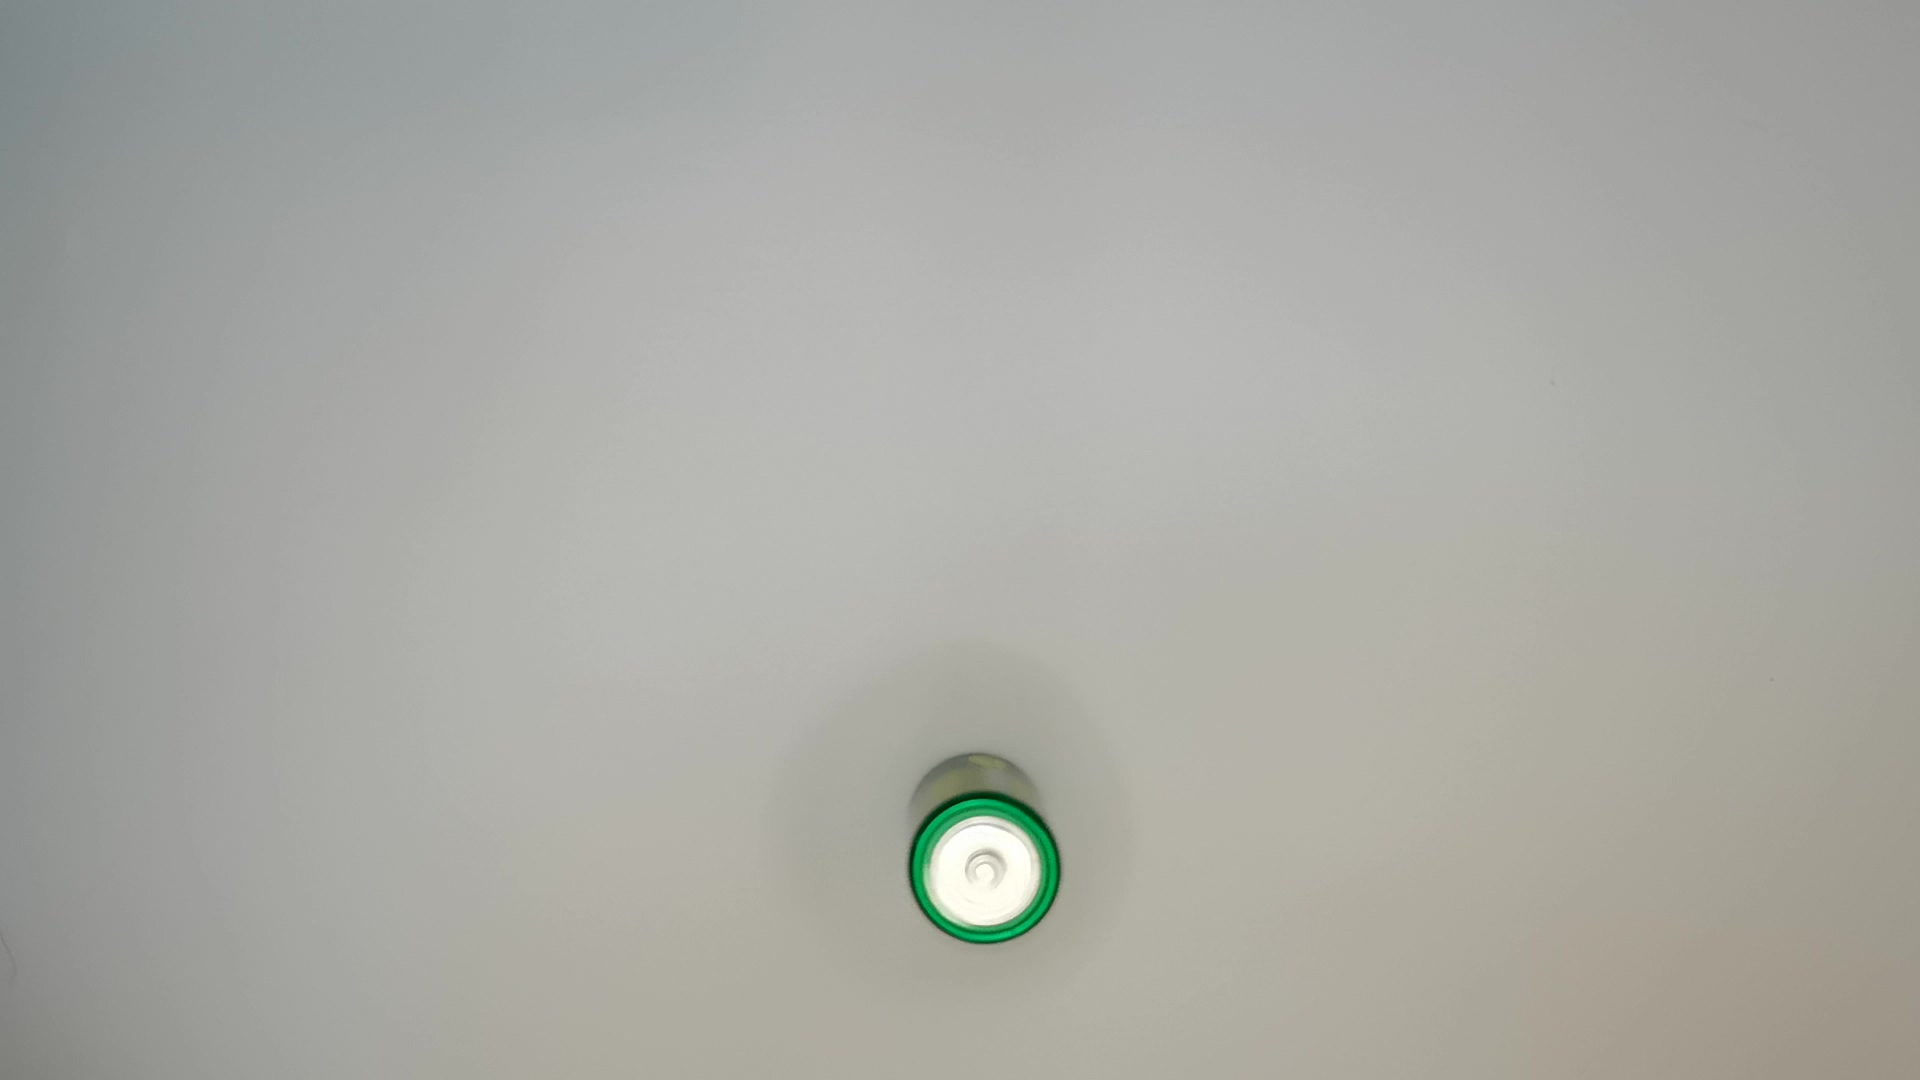battery: (901, 745, 1062, 956)
